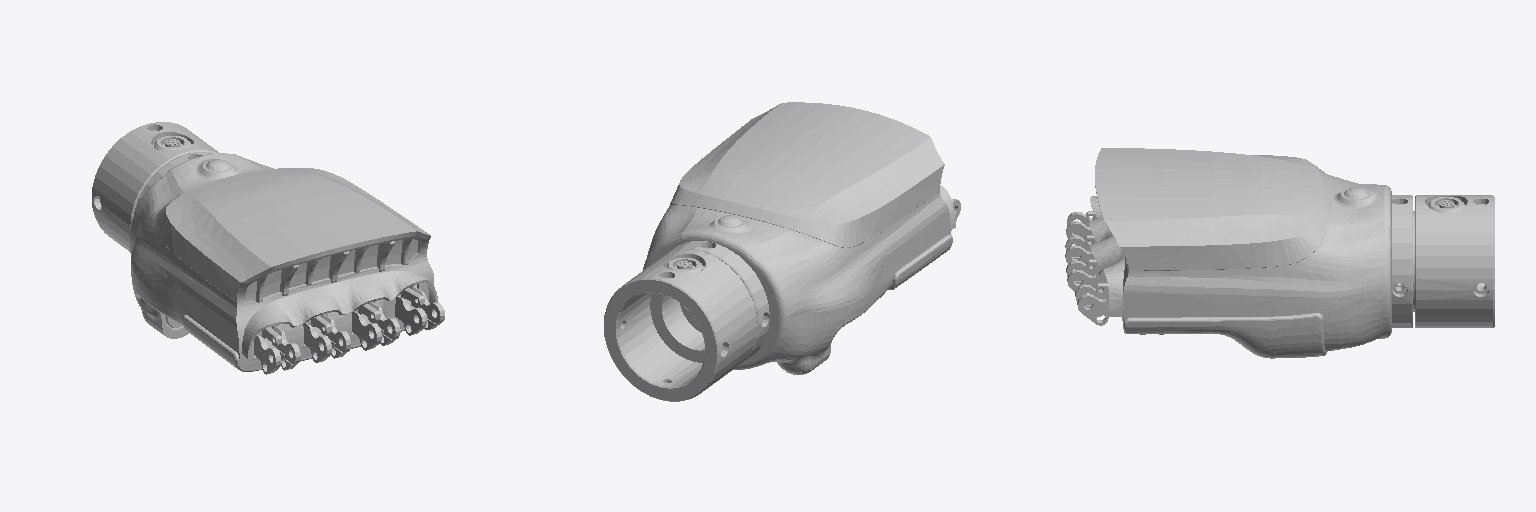
The model's file is left_base_link_collisions.obj.
3 renders of one model, left to right at view 1: azimuth 30°, elevation 25°; view 2: azimuth 150°, elevation 25°; view 3: azimuth 270°, elevation 25°, orthographic.
Size of the model in its own units: 0.0893 by 0.0652 by 0.161.